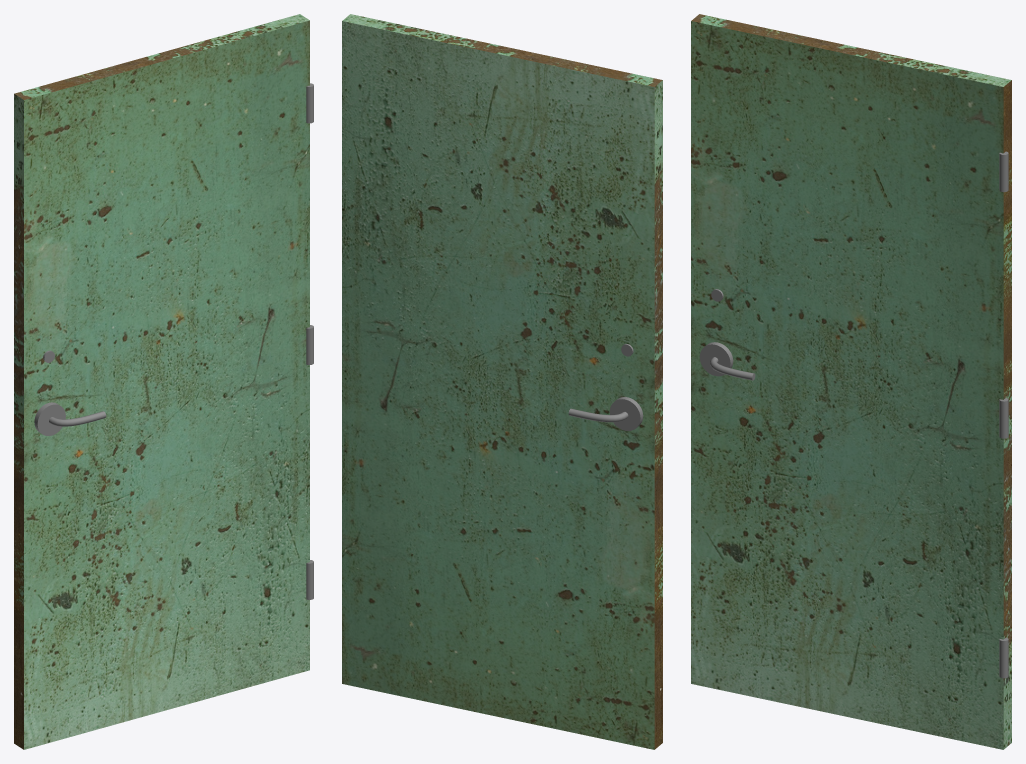
The model's file is door_animation.fbx.
3 views of the same model, side by side, from view 1: azimuth 30°, elevation 25°; view 2: azimuth 150°, elevation 25°; view 3: azimuth 330°, elevation 25° (orthographic). The views are drawn at different scales.
Parts seen in each view (by area): view 1: vrata.001; view 2: vrata.001; view 3: vrata.001.
Boxes of the visible parts, box(x1,y1,x2,y2) form: vrata.001: box(14, 14, 313, 749); vrata.001: box(342, 14, 662, 749); vrata.001: box(691, 14, 1011, 749).
Bounding box in the file's own units: 95.44 × 197 × 20.22.
Materials: 2 (2 with a texture image).
